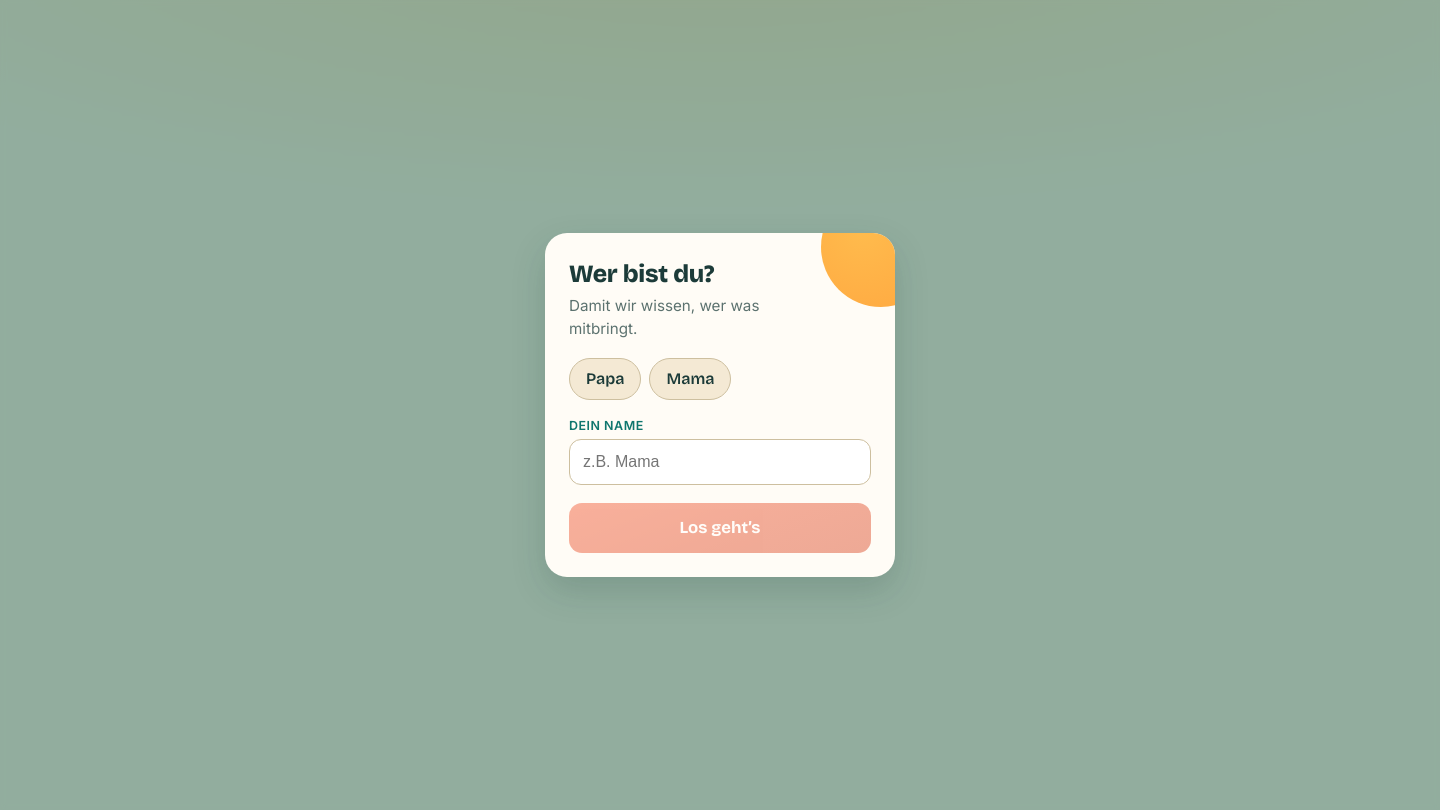
App › shows the name dialog first, then the list
Expected: the heading "Wer bist du?" is shown, left=569, top=260, right=714, bottom=290
Click the button "Papa" at [605, 378], box left=569, top=358, right=642, bottom=400
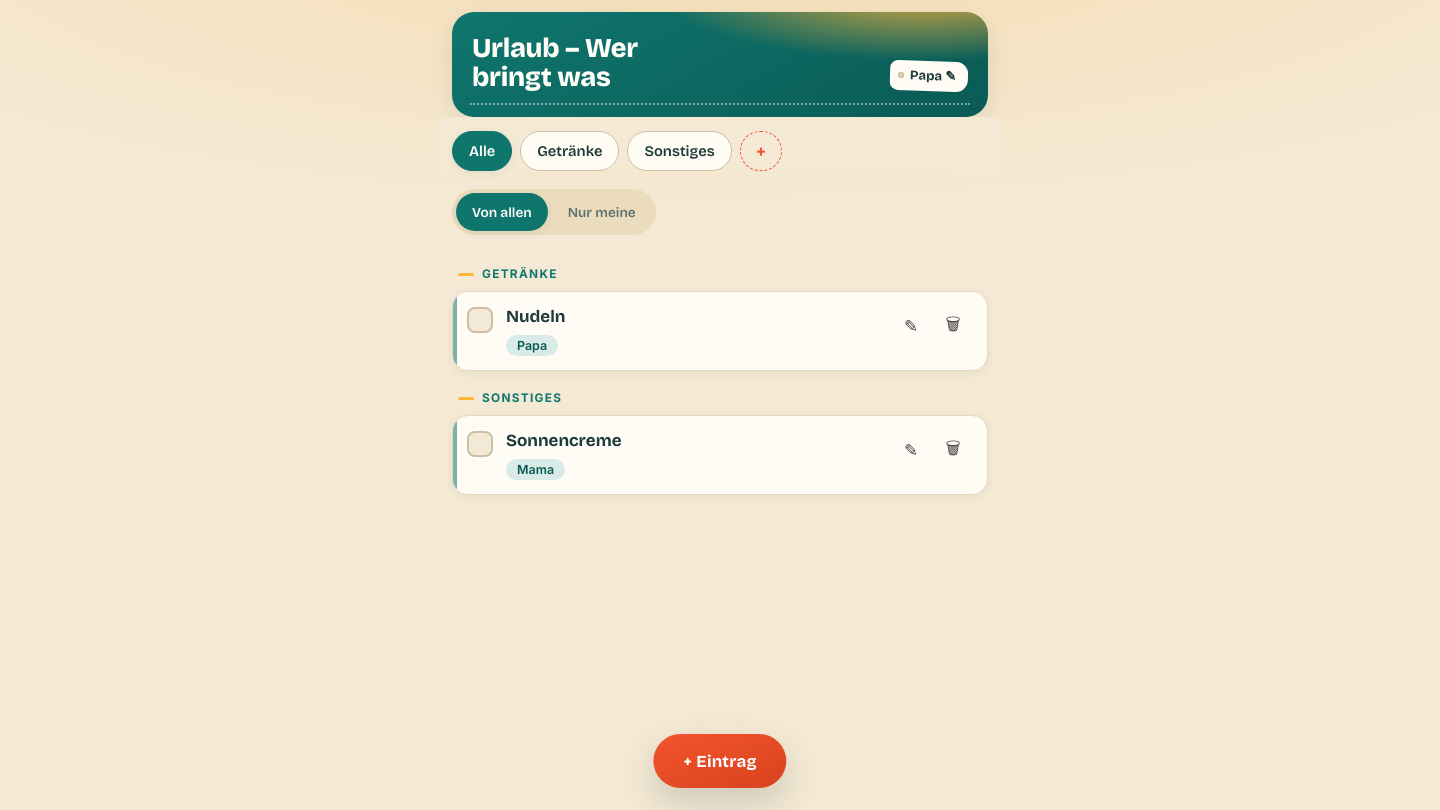
Now the text "Nudeln" is shown, box left=506, top=306, right=565, bottom=327
Now the button "Alle" is shown, box left=452, top=131, right=512, bottom=171
